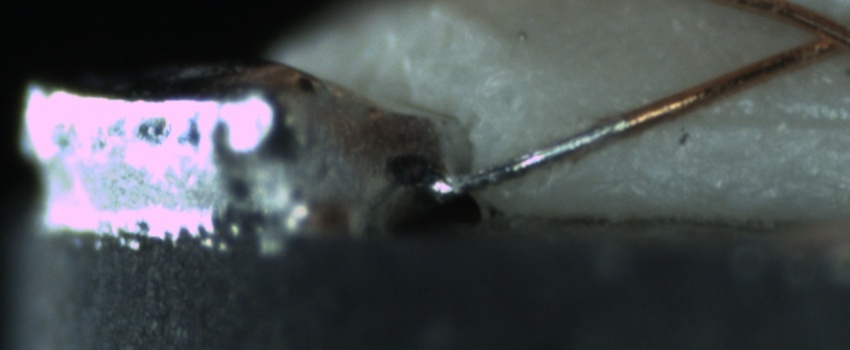CL: (791, 8, 850, 61)
DL: (668, 91, 850, 152)
TS: (433, 115, 628, 199)
